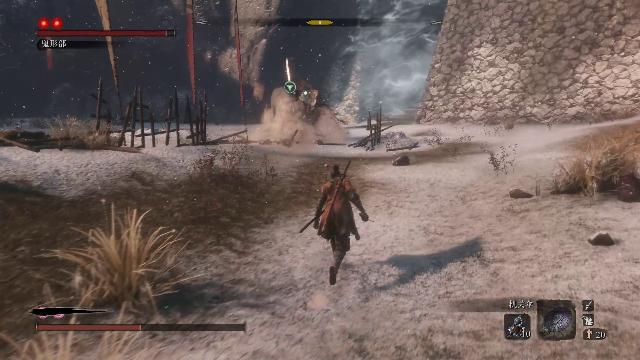sk: (313, 161, 369, 289)
